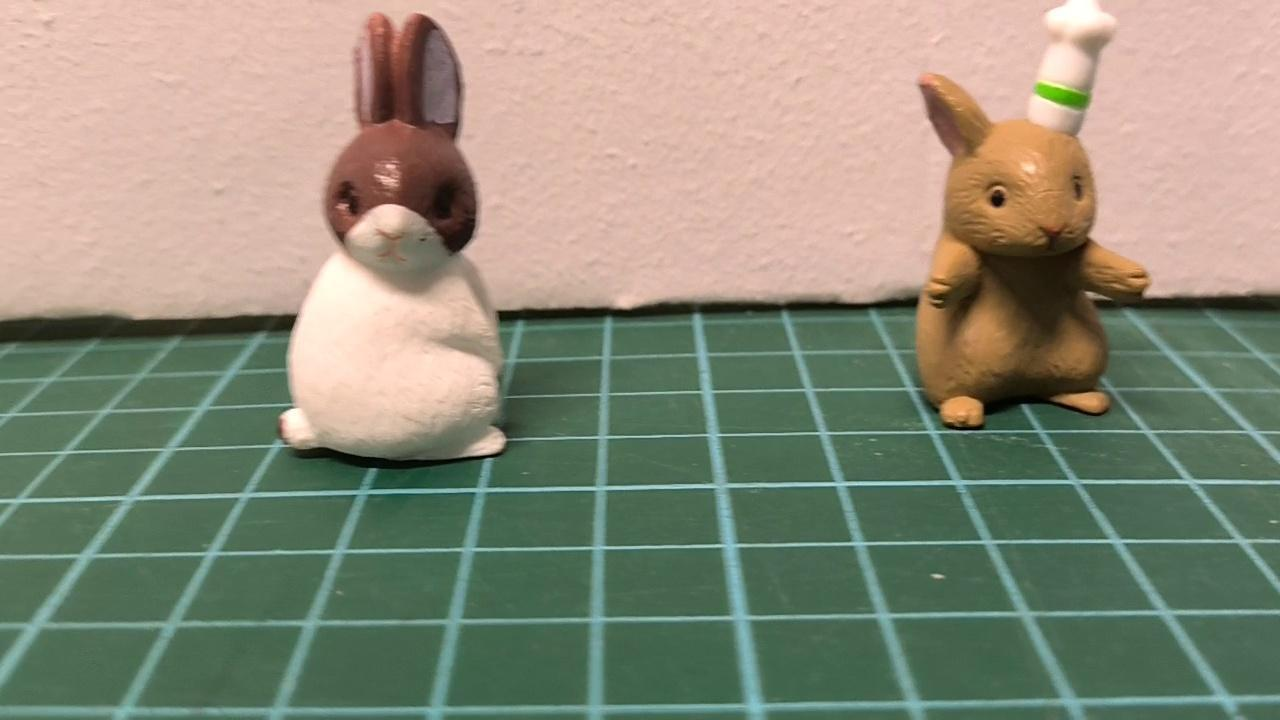pet: (275, 14, 511, 462), (913, 75, 1149, 428)
